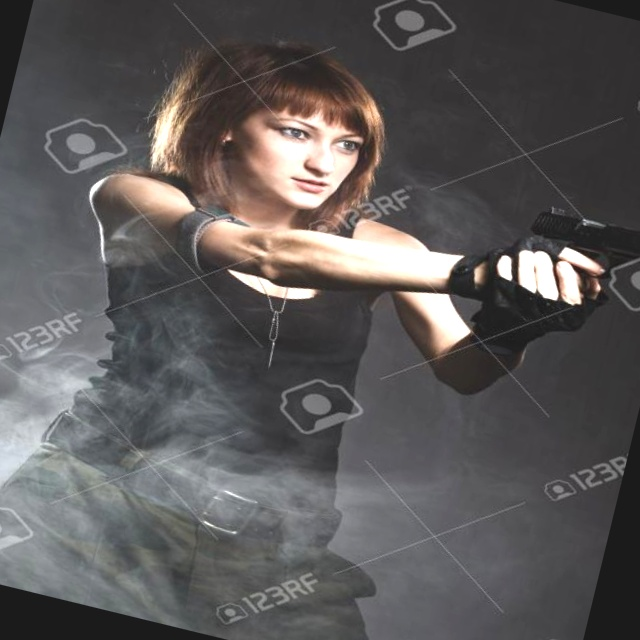gun: (467, 164, 640, 373)
